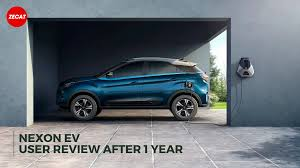Tata Nexon: (54, 55, 210, 122)
